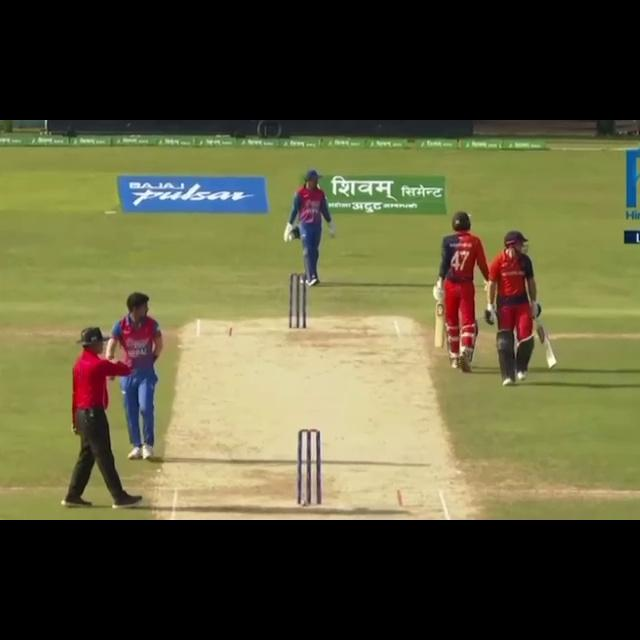umpire: (56, 323, 147, 519)
